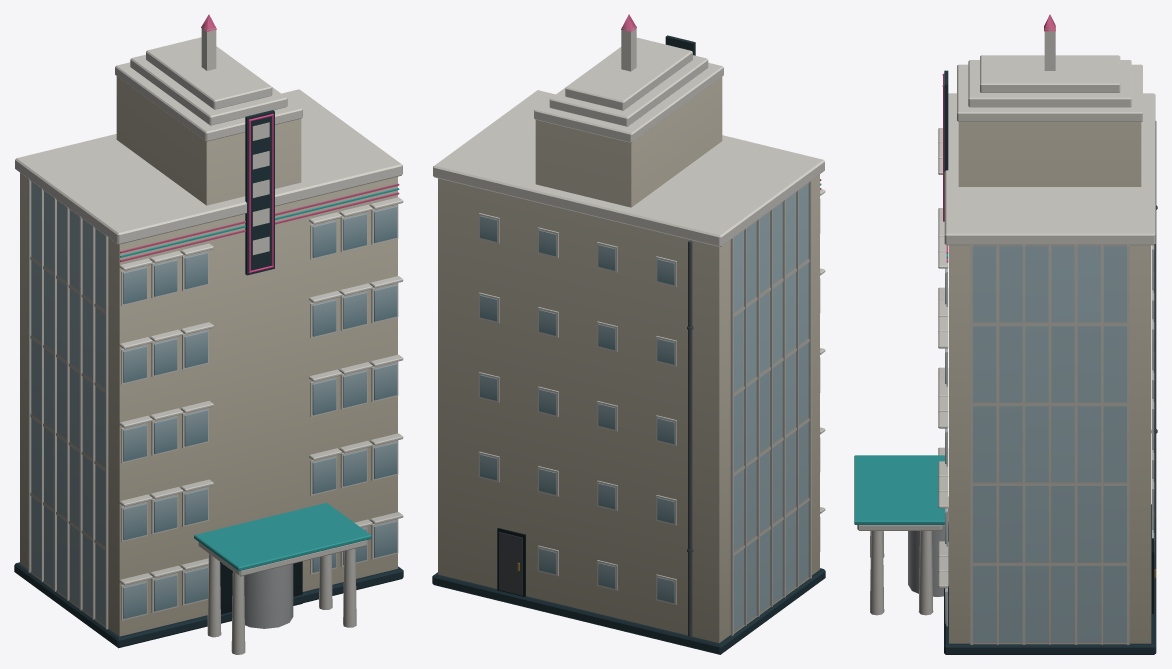
Rendered from grand_deco_hotel.glb.
The picture shows the model from 3 angles, left to right: view 1: azimuth 30°, elevation 25°; view 2: azimuth 150°, elevation 25°; view 3: azimuth 270°, elevation 25°; orthographic projection.
Visible parts, largest first — view 1: grand_deco_hotel; view 2: grand_deco_hotel; view 3: grand_deco_hotel.
Part boxes in pixels (<box>): grand_deco_hotel: <box>14,14,403,654</box>; grand_deco_hotel: <box>432,14,825,654</box>; grand_deco_hotel: <box>854,14,1157,654</box>.
Size of the model in its own units: 10.3 by 19.29 by 9.3.
